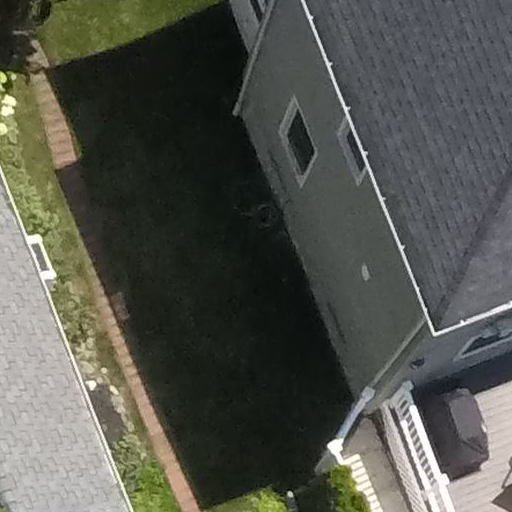hose: (242, 189, 294, 245)
